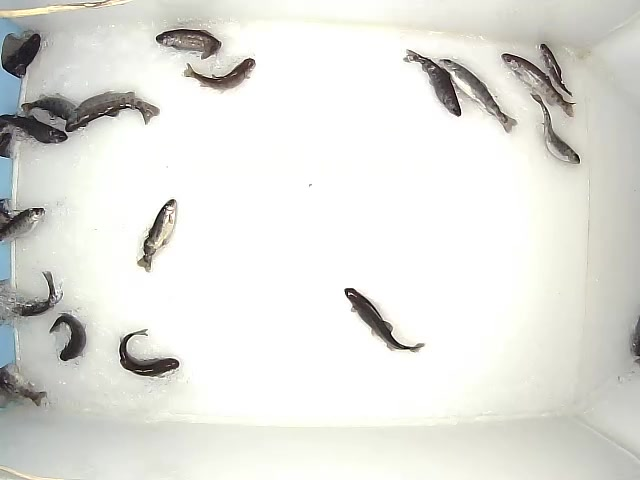fish: (438, 58, 518, 135), (343, 286, 426, 354), (501, 52, 578, 120), (401, 48, 462, 118), (65, 89, 161, 133), (530, 93, 581, 165), (136, 198, 179, 274), (117, 328, 180, 378), (180, 57, 256, 94), (6, 267, 57, 317), (20, 93, 88, 128), (155, 28, 223, 61), (48, 311, 87, 363), (539, 43, 574, 98), (1, 207, 46, 245)
